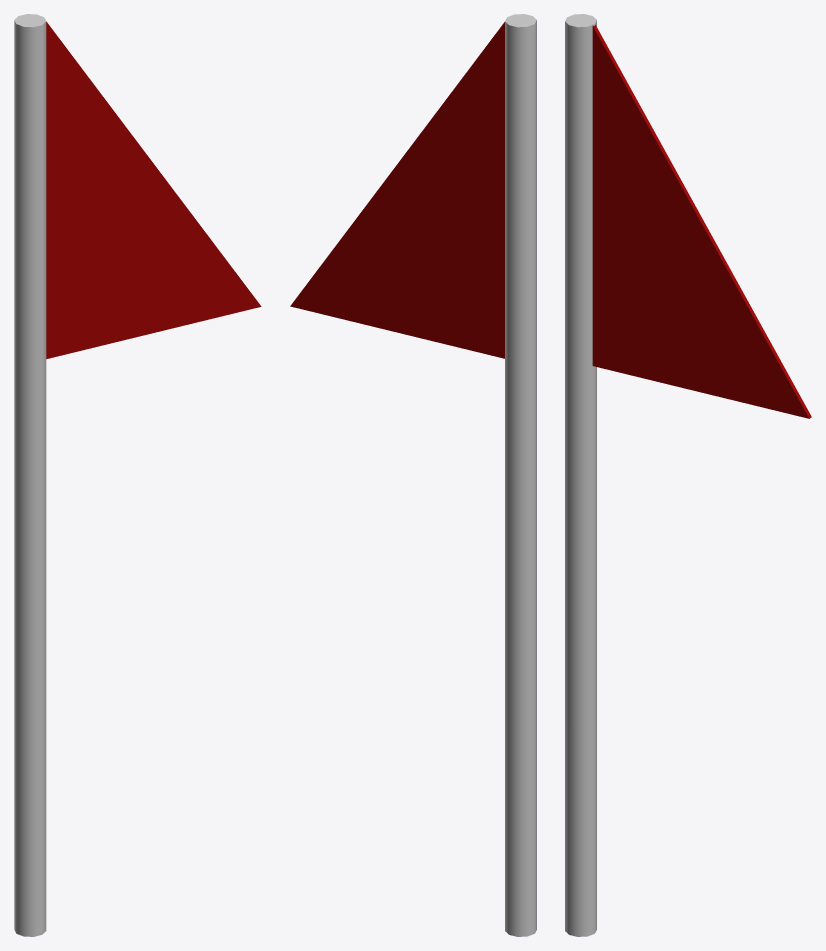
The model's file is Flag.FBX.
The picture shows the model from 3 angles, left to right: view 1: azimuth 30°, elevation 25°; view 2: azimuth 150°, elevation 25°; view 3: azimuth 330°, elevation 25°; orthographic projection.
Visible parts, largest first — view 1: Line001; view 2: Line001; view 3: Line001.
Part boxes in pixels (<box>): Line001: <box>14,14,261,936</box>; Line001: <box>290,14,536,936</box>; Line001: <box>565,14,811,936</box>.
Bounding box in the file's own units: 22.44 × 80 × 2.43.
